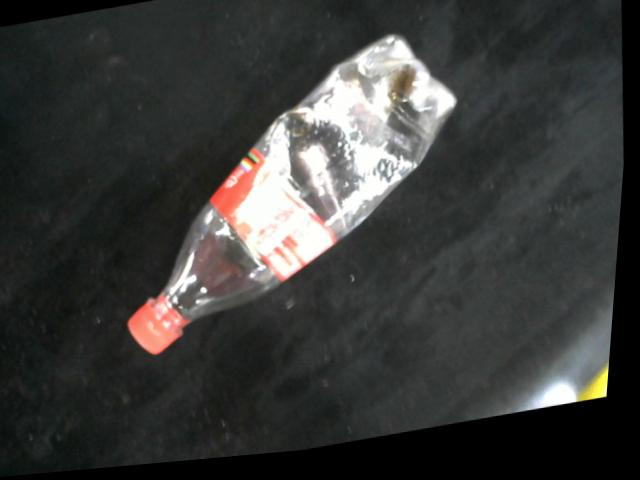bottle: (130, 41, 462, 359)
